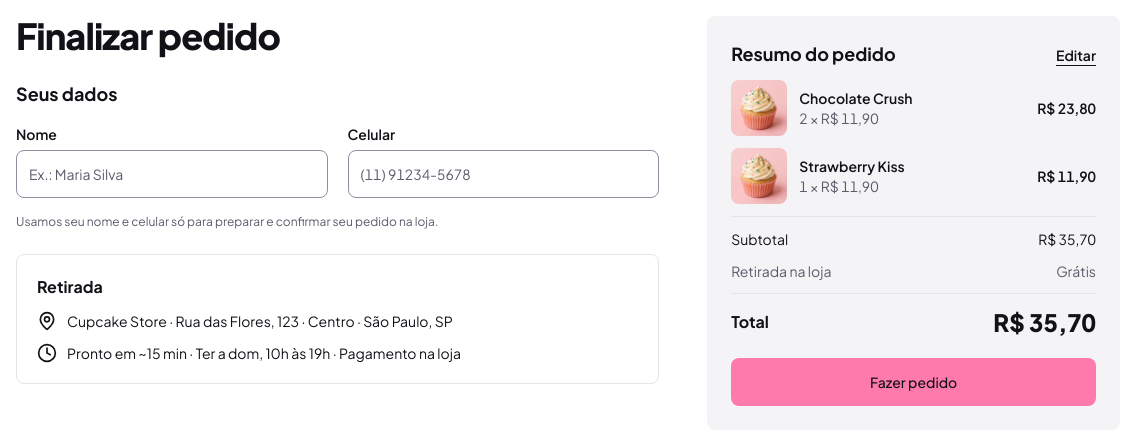
it: US-12 validation messages › AC4: shows a server field error next to its field
This screenshot has width=1137, height=447.
Expected: the heading "Resumo do pedido" is shown, [731,40,896,68]
In the field labelled "Nome": (172, 174) [16,150,328,198], type "Ana Souza"
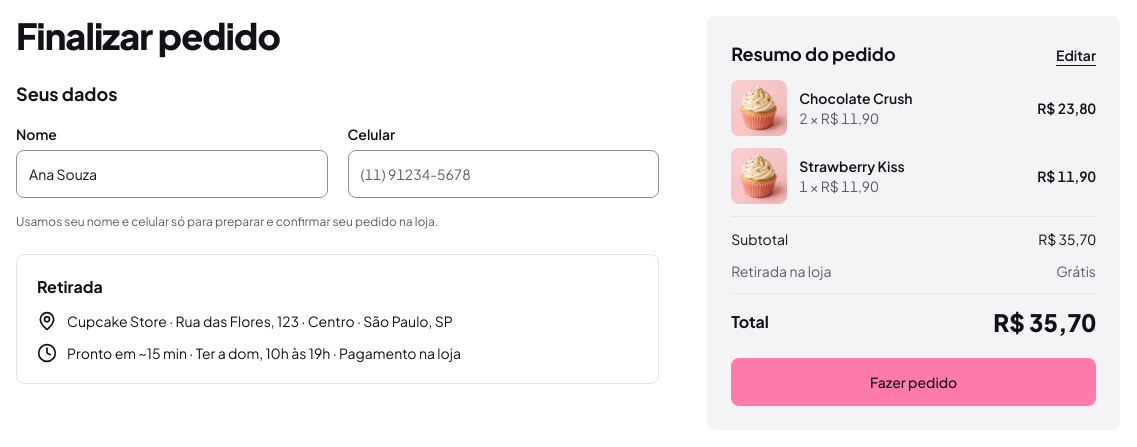
In the field labelled "Celular": (503, 174) [348,150,659,198], type "11912345678"
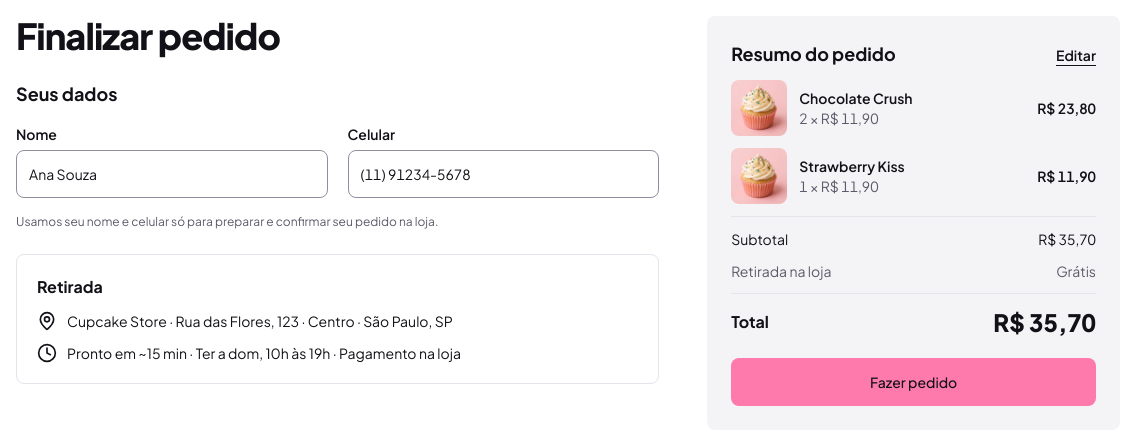
Click the button "Fazer pedido": (914, 382) [731,358,1096,406]
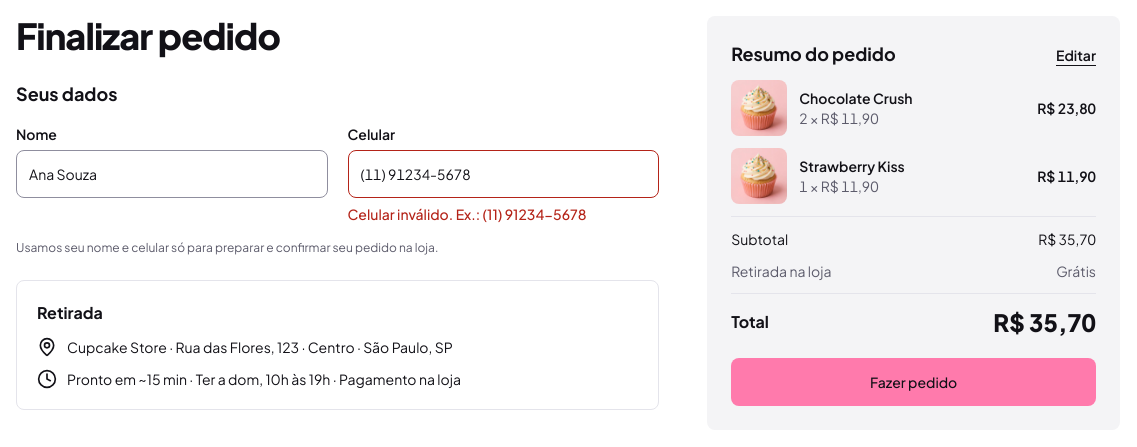
Now the text "Celular inválido. Ex.: (11) 91234-5678" is shown, box [348,205,587,223]
